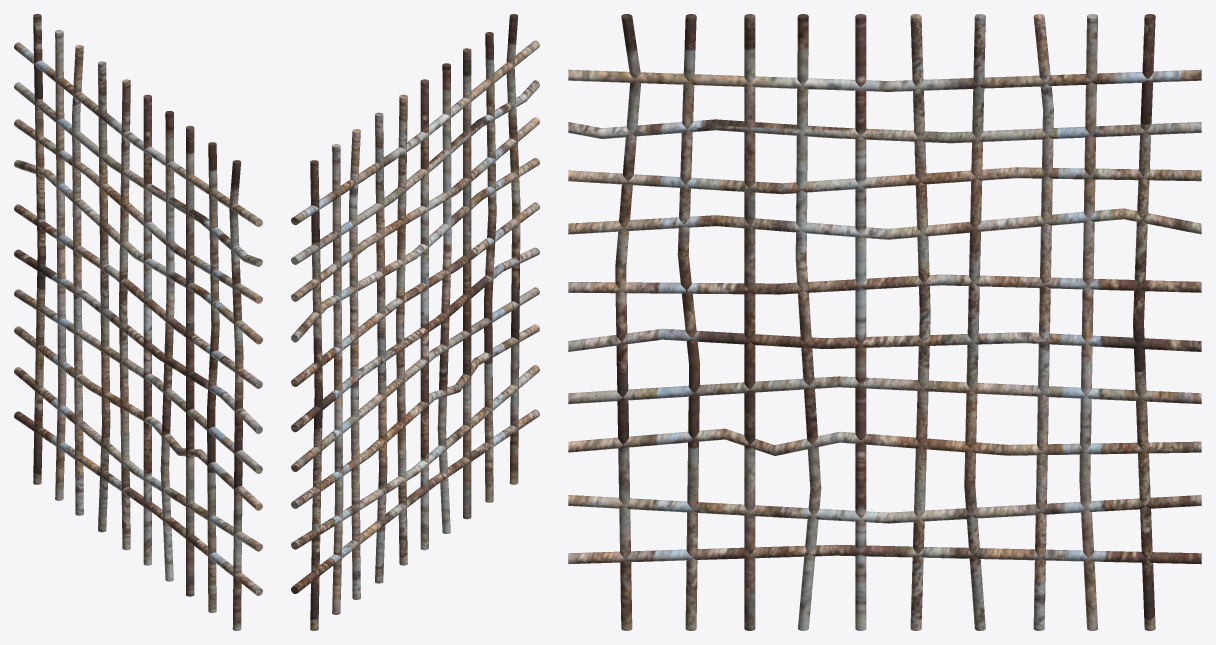
Rendered from ボロボロな金網.fbx.
The picture shows the model from 3 angles, left to right: view 1: azimuth 30°, elevation 25°; view 2: azimuth 150°, elevation 25°; view 3: azimuth 270°, elevation 25°; orthographic projection. The views are drawn at different scales.
Visible parts, largest first — view 1: 金網; view 2: 金網; view 3: 金網.
Boxes of the visible parts, box(x1,y1,x2,y2) form: 金網: box(14, 14, 262, 630); 金網: box(291, 14, 539, 630); 金網: box(568, 14, 1201, 630).
Bounding box in the file's own units: 5.71 × 353 × 331.
Materials: 1 (1 with a texture image).
